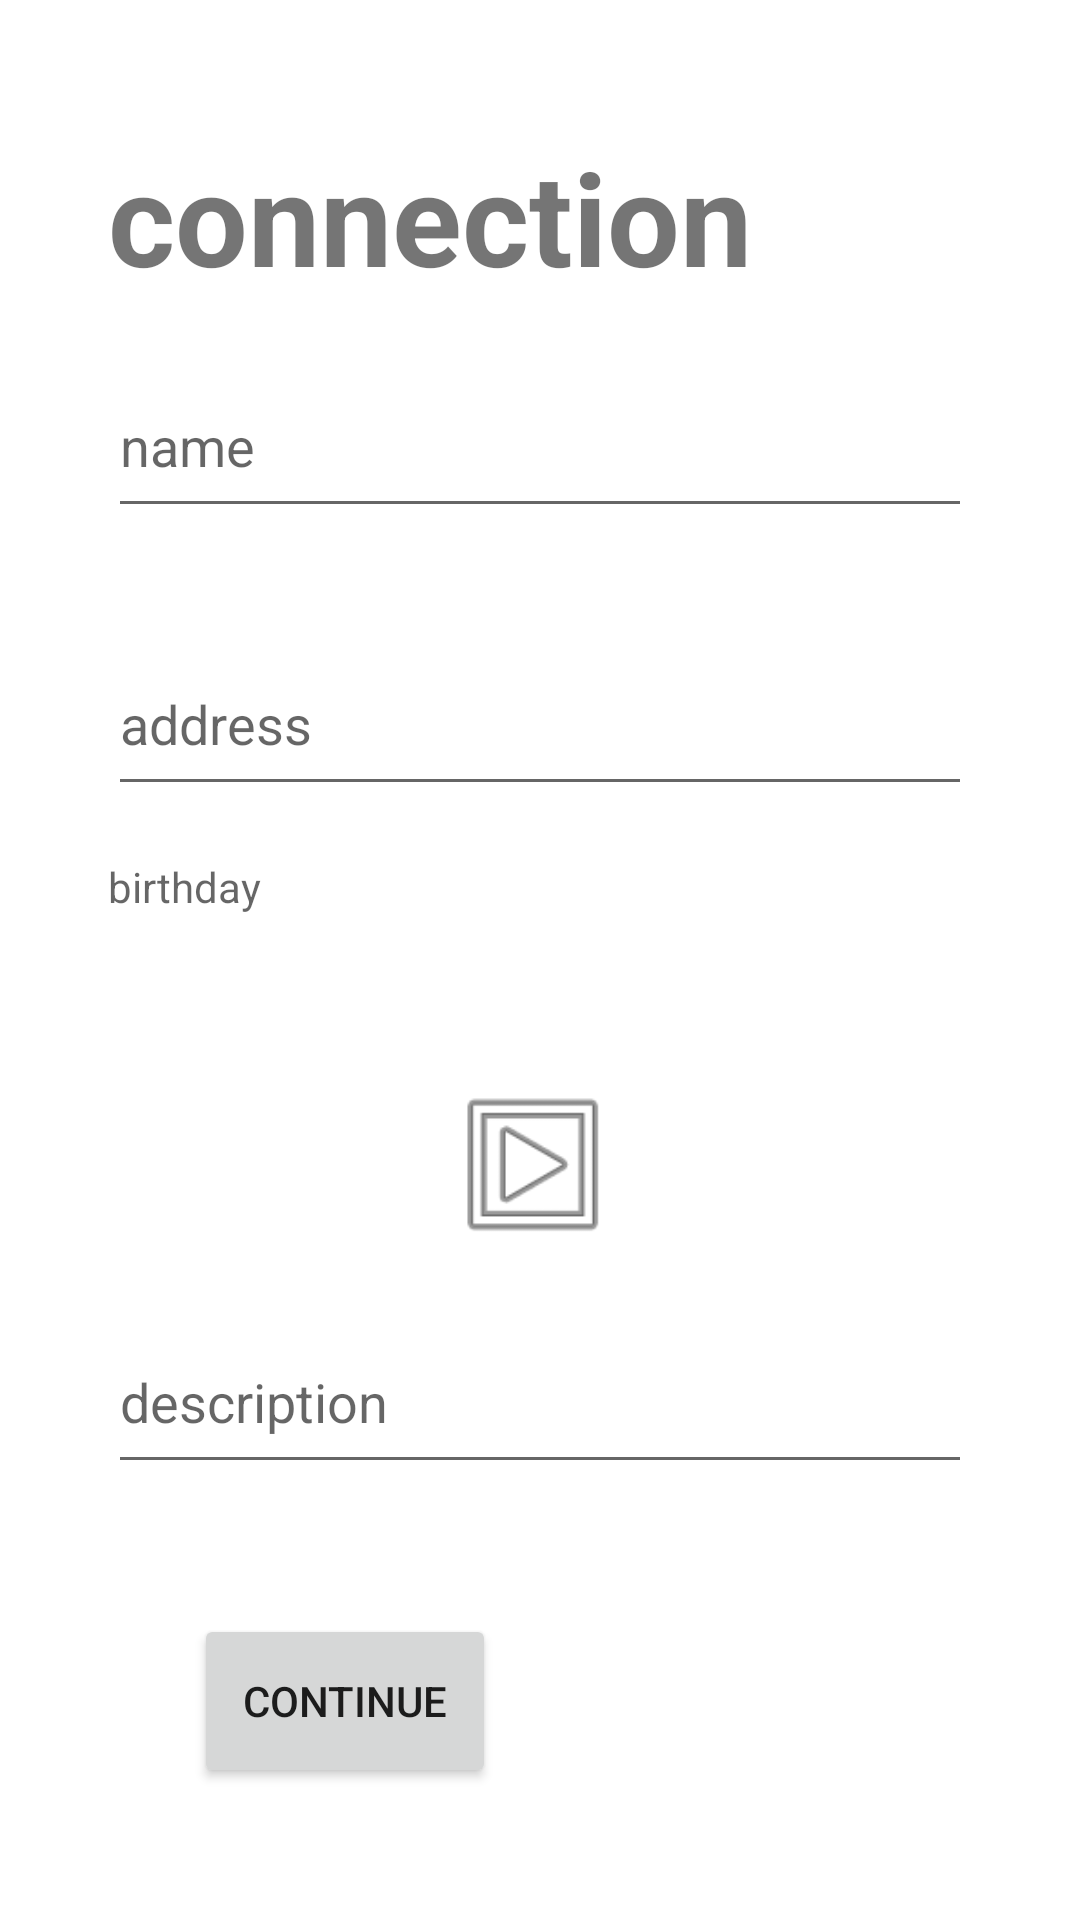

Locate icon controls on the screen. Image size 1080px x 1920px, boxes as bbox(x1, y1, x2, y2).
slideshow: bbox(467, 1099, 598, 1231)
